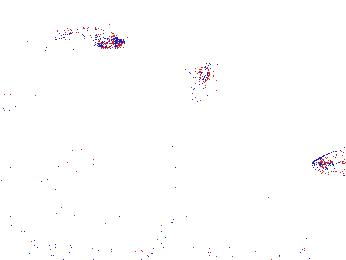redtail glassfish: (36, 19, 128, 58), (181, 39, 212, 93), (309, 147, 346, 179)
